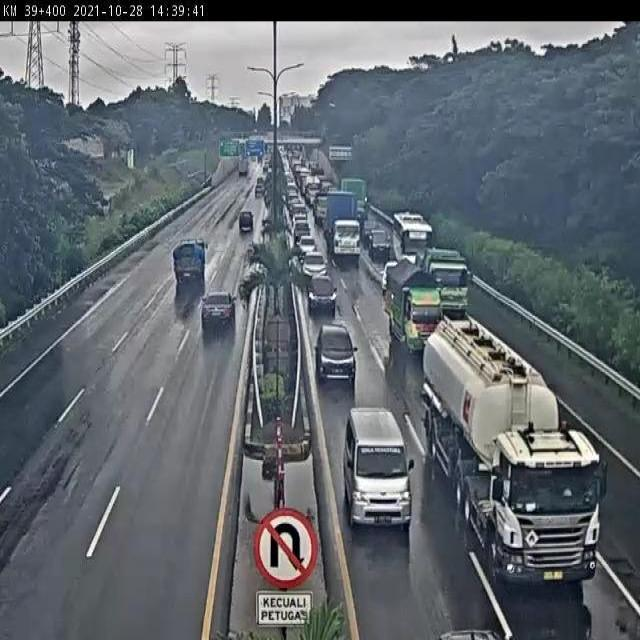car: (344, 408, 410, 531), (314, 322, 359, 378), (201, 290, 235, 330), (305, 276, 336, 311), (302, 248, 327, 277), (367, 228, 390, 257), (236, 209, 257, 236)
truck: (423, 316, 603, 587), (381, 260, 443, 347), (419, 246, 472, 306), (325, 187, 361, 259), (389, 212, 429, 265), (173, 237, 211, 287)
